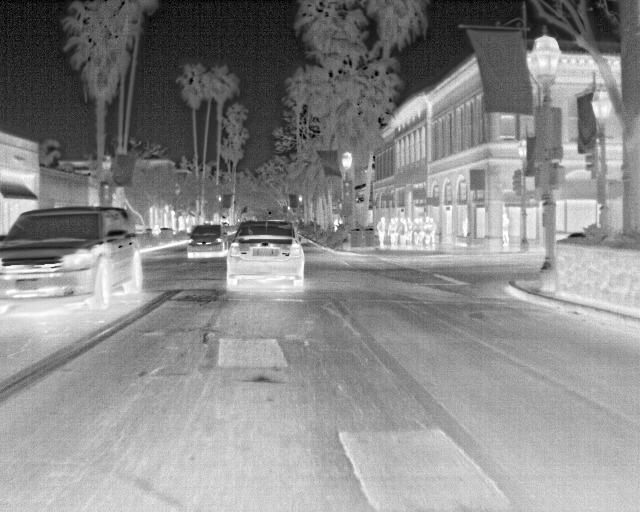bicycle: (1, 205, 144, 312), (225, 218, 305, 286), (185, 224, 230, 260)
empty: (373, 216, 387, 249), (397, 214, 409, 248), (387, 217, 399, 250), (422, 216, 434, 247)
